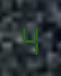four: (19, 19, 39, 56)
